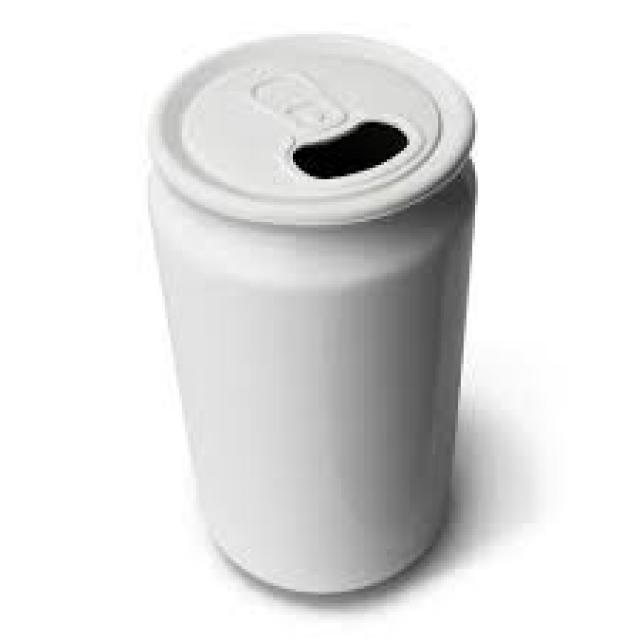recyclable: (148, 33, 476, 596)
